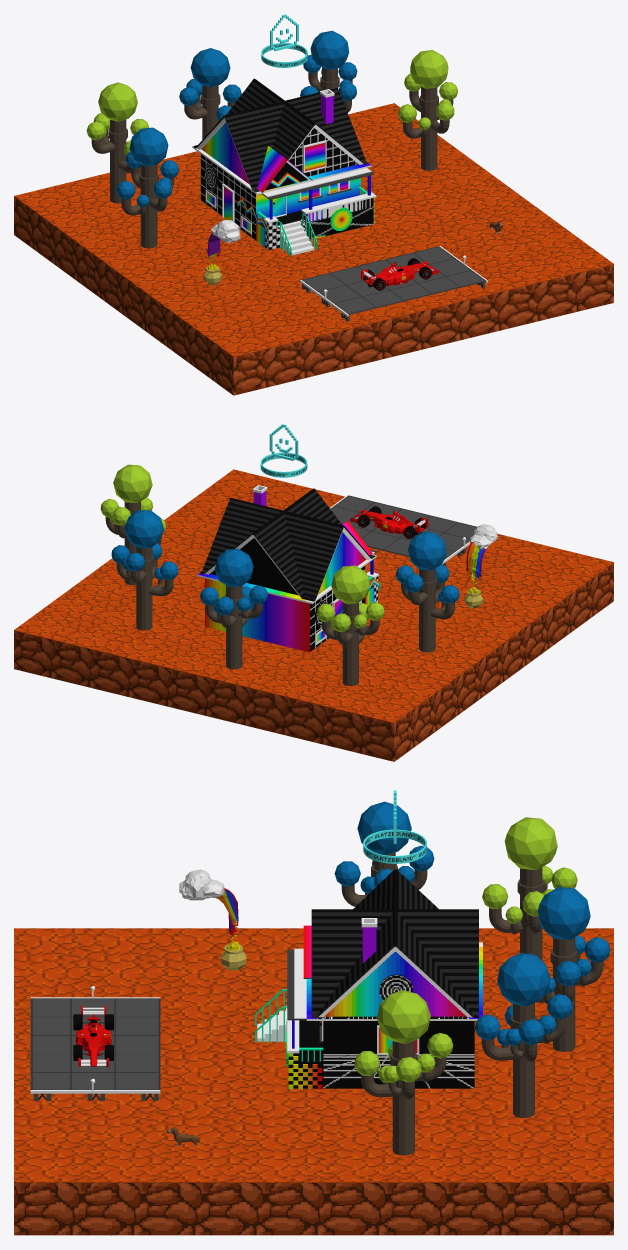
3 renders of one model, top to bottom at view 1: azimuth 30°, elevation 25°; view 2: azimuth 150°, elevation 25°; view 3: azimuth 270°, elevation 25°, orthographic. The views are drawn at different scales.
Parts seen in each view (by area): view 1: Cube.001, Cube.1320, VEHICLES_FORMULA_1, OBJRANDOM_RAINBOW, TYPE_PREMIUM; view 2: Cube.001, Cube.1320, OBJRANDOM_RAINBOW, VEHICLES_FORMULA_1, TYPE_PREMIUM; view 3: Cube.001, Cube.1320, OBJRANDOM_RAINBOW, VEHICLES_FORMULA_1, TYPE_PREMIUM.
Boxes of the visible parts, x1,y1,x2,y2 form: Cube.001: (14,30,613,395); Cube.1320: (192,78,376,256); VEHICLES_FORMULA_1: (361,258,438,290); OBJRANDOM_RAINBOW: (203,220,240,285); TYPE_PREMIUM: (261,14,307,67); Cube.001: (14,464,613,761); Cube.1320: (197,485,380,652); OBJRANDOM_RAINBOW: (464,524,497,608); VEHICLES_FORMULA_1: (350,506,428,538); TYPE_PREMIUM: (260,424,307,477); Cube.001: (14,801,613,1235); Cube.1320: (255,869,482,1089); OBJRANDOM_RAINBOW: (179,869,246,970); VEHICLES_FORMULA_1: (73,1006,113,1066); TYPE_PREMIUM: (363,790,426,863).
Size of the model in its own units: 4000 by 2383 by 4000.
Materials: 38 (7 with a texture image).
